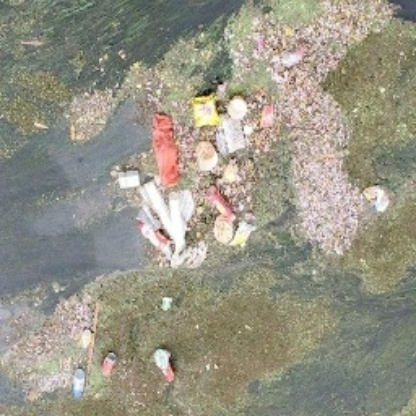plastic-bag: (149, 115, 182, 185), (190, 95, 222, 128)
